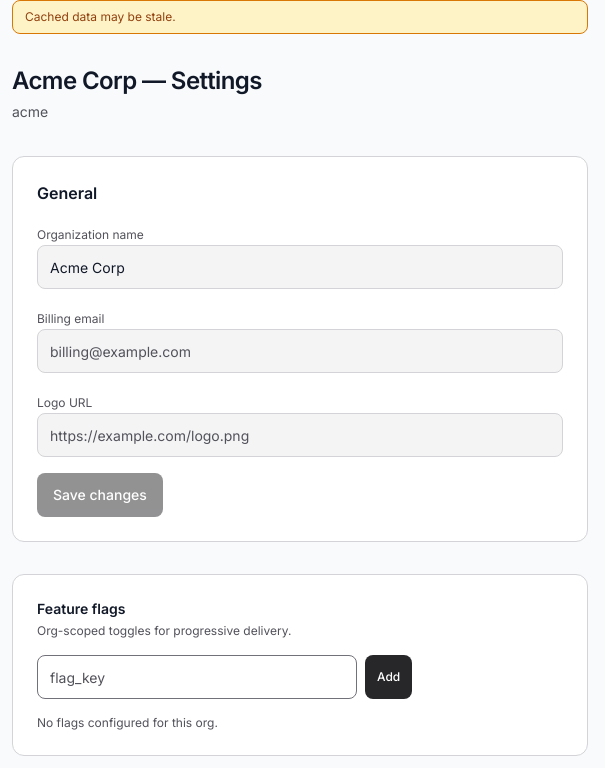
OrgSettingsPage › shows an associated billing email error and focuses the invalid field
Type "not-an-email" into the field labelled "Billing email" at (300, 351), box [37, 329, 563, 373]
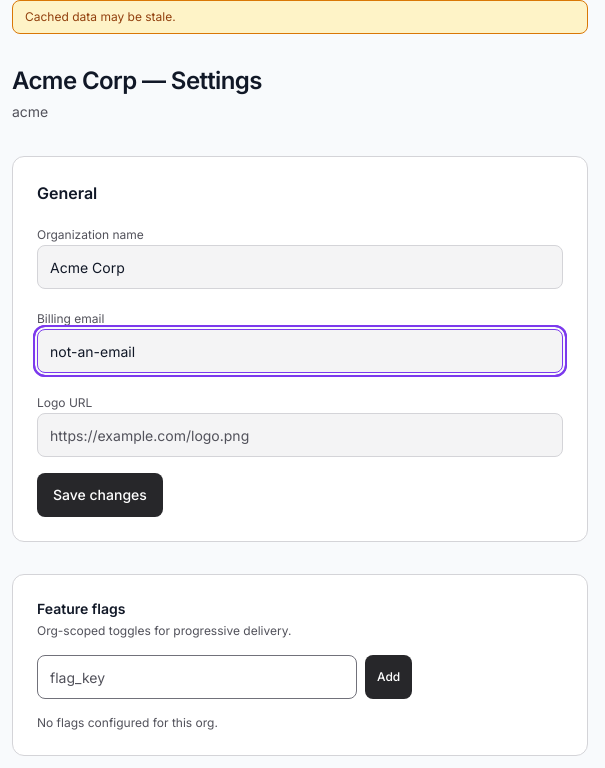
Click the button "Save changes" at (100, 495), box [37, 473, 163, 517]
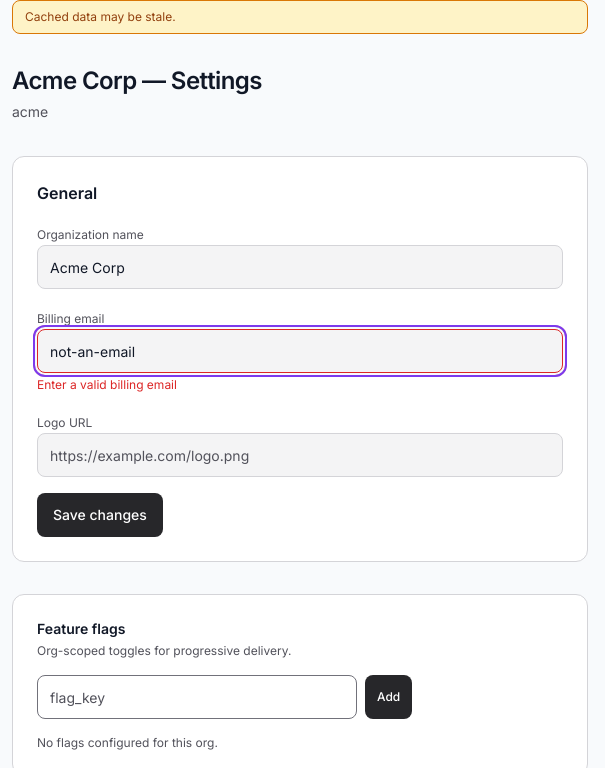
Now the text "Enter a valid billing email" is shown, box [37, 377, 177, 392]
